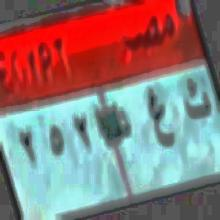2: (73, 106, 93, 161), (18, 124, 38, 168)
5: (48, 120, 66, 160)
daal: (117, 92, 133, 147)
ghayn: (146, 82, 174, 151)
thaa: (182, 73, 214, 128)
